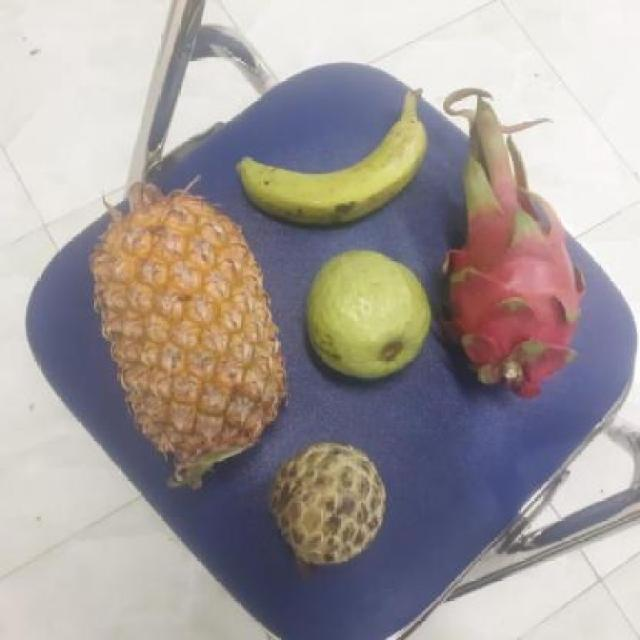banana: (232, 98, 420, 227)
dragon fruit: (431, 179, 582, 390)
guava: (298, 253, 432, 379)
pineapple: (88, 199, 283, 479)
sugar apple: (263, 440, 386, 568)
